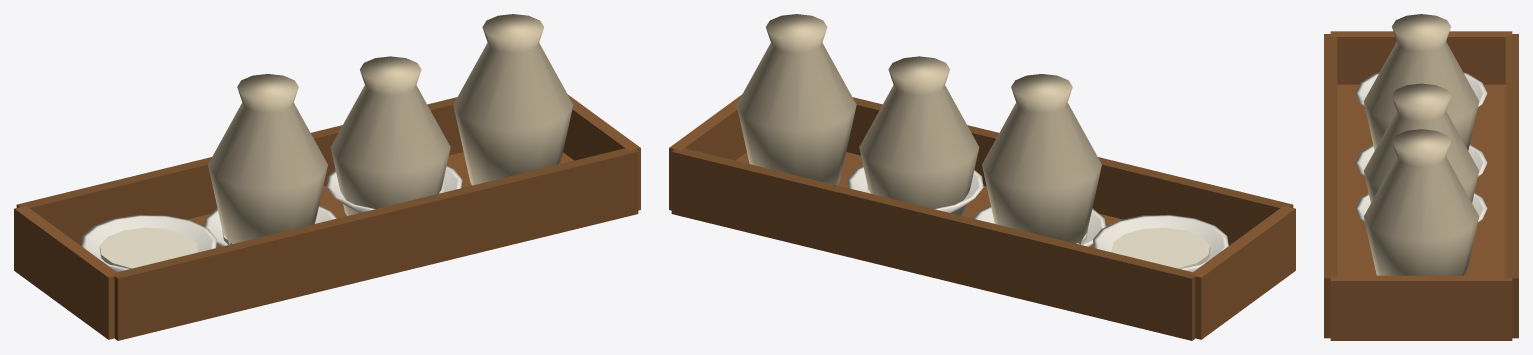
The model's file is Alc_RiceWine.fbx.
3 views of the same model, side by side, from view 1: azimuth 30°, elevation 25°; view 2: azimuth 150°, elevation 25°; view 3: azimuth 270°, elevation 25° (orthographic). The views are drawn at different scales.
Parts seen in each view (by area): view 1: Alc_RiceWine__Stack, Alc_RiceWine; view 2: Alc_RiceWine__Stack, Alc_RiceWine; view 3: Alc_RiceWine__Stack, Alc_RiceWine.
Part boxes in pixels (<box>): Alc_RiceWine__Stack: <box>14,14,640,340</box>; Alc_RiceWine: <box>204,56,450,246</box>; Alc_RiceWine__Stack: <box>669,14,1295,340</box>; Alc_RiceWine: <box>859,56,1105,246</box>; Alc_RiceWine__Stack: <box>1324,14,1518,340</box>; Alc_RiceWine: <box>1355,83,1487,202</box>.
Bounding box in the file's own units: 0.358 × 0.108 × 0.118.
